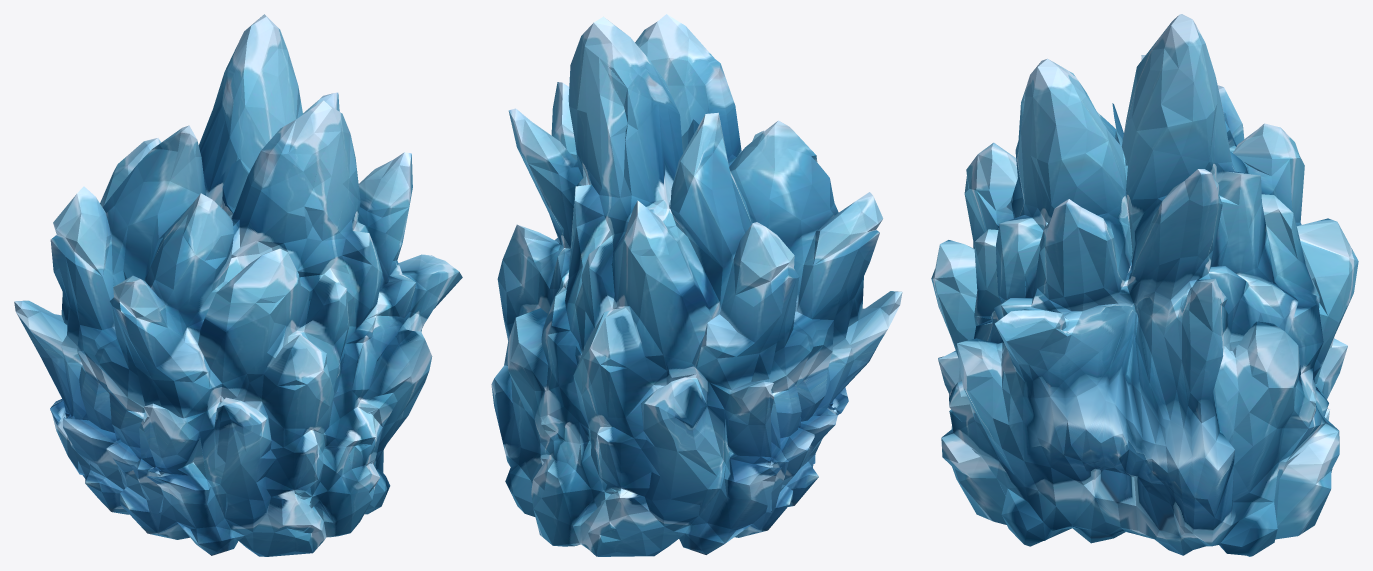
Rendered from ice_cluster2_free.glb.
3 renders of one model, left to right at view 1: azimuth 30°, elevation 25°; view 2: azimuth 150°, elevation 25°; view 3: azimuth 270°, elevation 25°, orthographic. The views are drawn at different scales.
Visible parts, largest first — view 1: Object_2; view 2: Object_2; view 3: Object_2.
Boxes of the visible parts, x1,y1,x2,y2 form: Object_2: [14, 14, 462, 556]; Object_2: [491, 14, 902, 556]; Object_2: [931, 14, 1358, 556].
Size of the model in its own units: 0.6936 by 0.9524 by 0.7043.
1 material, 1 textured.
